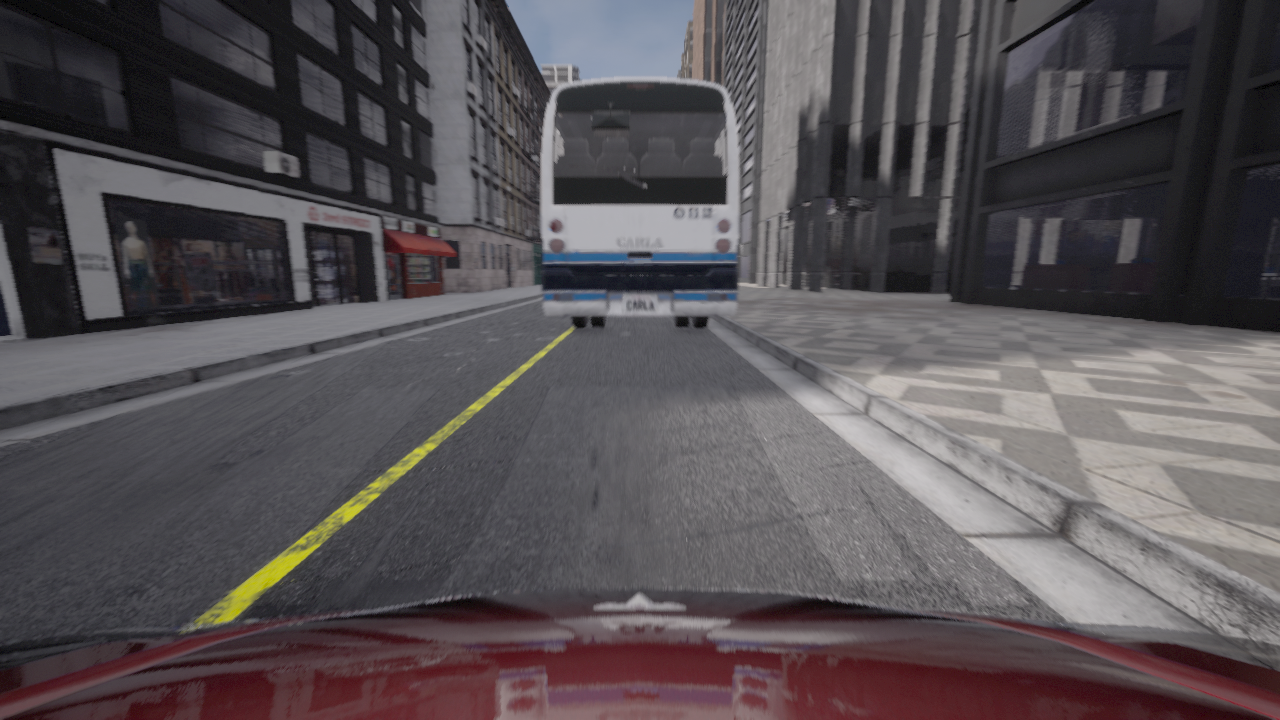cyclist: (0, 588, 1279, 719), (542, 76, 738, 328)
